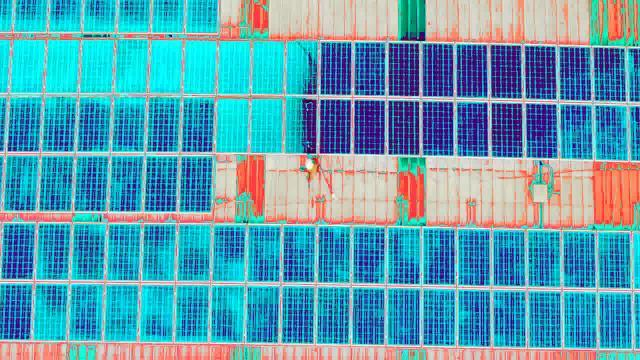clean: (321, 38, 351, 95), (355, 39, 385, 96), (388, 40, 418, 97), (422, 42, 452, 99), (457, 43, 487, 100), (492, 43, 522, 100), (526, 44, 556, 101), (560, 45, 590, 102), (594, 45, 624, 102), (321, 97, 351, 154), (355, 97, 385, 154), (389, 98, 419, 155), (423, 98, 453, 155), (457, 100, 487, 157), (492, 100, 522, 157), (527, 101, 557, 158)
dirty: (13, 39, 44, 93), (47, 40, 78, 94), (81, 39, 112, 93), (115, 38, 146, 92), (150, 39, 181, 93), (185, 38, 216, 92), (253, 41, 284, 95), (218, 37, 249, 91), (285, 40, 316, 94), (217, 97, 248, 151), (252, 98, 283, 152)
semi: (563, 292, 595, 351), (597, 232, 630, 288), (561, 231, 594, 287), (527, 230, 560, 286), (491, 229, 524, 285), (457, 229, 490, 285), (421, 228, 454, 284), (388, 229, 421, 285), (350, 227, 383, 283), (318, 227, 351, 283), (281, 225, 314, 281), (248, 225, 281, 281), (212, 226, 245, 282), (599, 291, 632, 347), (528, 291, 561, 347), (494, 291, 527, 347), (459, 289, 492, 345), (423, 288, 456, 344), (352, 288, 385, 344), (385, 286, 418, 342), (316, 286, 349, 342), (280, 287, 313, 343), (2, 225, 35, 281), (37, 222, 70, 278), (74, 224, 107, 280), (108, 224, 141, 280), (140, 224, 173, 280), (178, 225, 211, 281), (34, 284, 67, 340), (72, 284, 105, 340), (105, 285, 138, 341), (140, 286, 173, 342), (174, 284, 207, 340), (211, 284, 244, 340), (246, 287, 279, 343), (9, 96, 42, 151), (44, 96, 77, 151), (78, 97, 111, 152), (114, 97, 147, 152), (146, 96, 179, 151), (181, 96, 214, 151), (5, 151, 38, 206), (41, 154, 74, 209), (73, 153, 106, 208), (108, 156, 141, 211), (147, 158, 180, 213), (181, 156, 214, 211), (560, 104, 593, 159), (596, 105, 629, 160), (1, 283, 33, 339)
